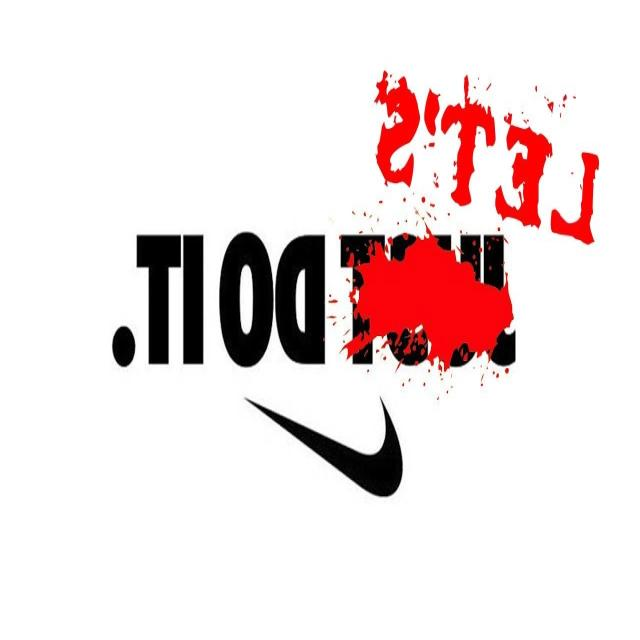nike: (234, 393, 408, 546)
